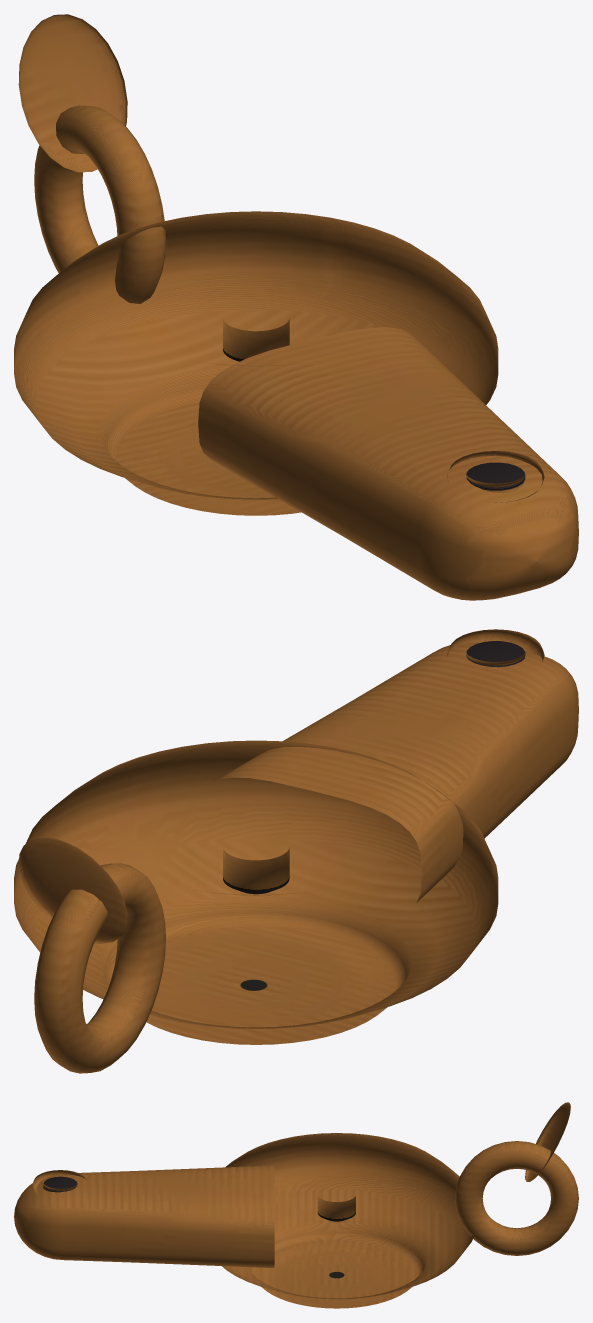
The model's file is oil-lamp.glb.
3 views of the same model, one above another, from view 1: azimuth 30°, elevation 25°; view 2: azimuth 150°, elevation 25°; view 3: azimuth 270°, elevation 25° (orthographic). The views are drawn at different scales.
Parts seen in each view (by area): view 1: oil-lamp; view 2: oil-lamp; view 3: oil-lamp.
Part boxes in pixels (box(x1,y1,x2,y2)): oil-lamp: box(14, 14, 578, 600); oil-lamp: box(14, 629, 578, 1073); oil-lamp: box(14, 1102, 578, 1308).
Size of the model in its own units: 0.089 by 0.0596 by 0.18.
Materials: 1 (1 with a texture image).
